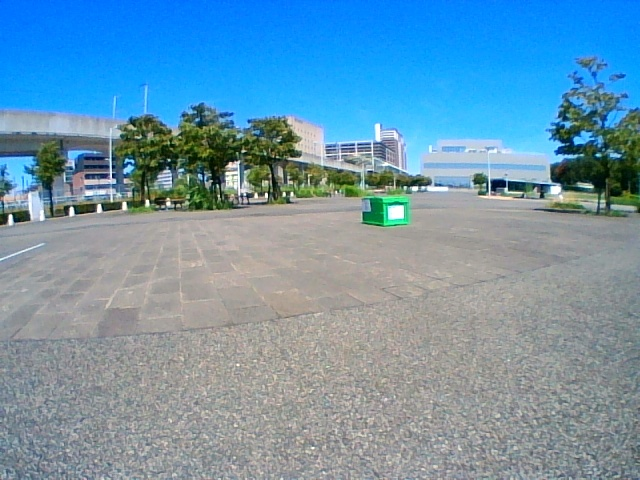green_box: (363, 197, 408, 225)
tag: (364, 199, 371, 211)
